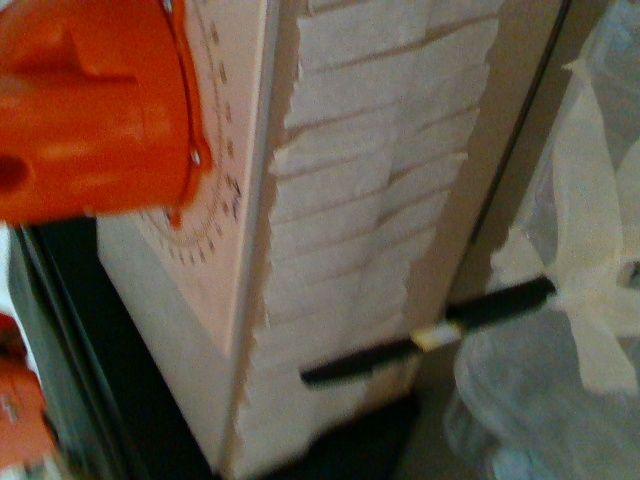test_strip: (297, 321, 459, 388)
